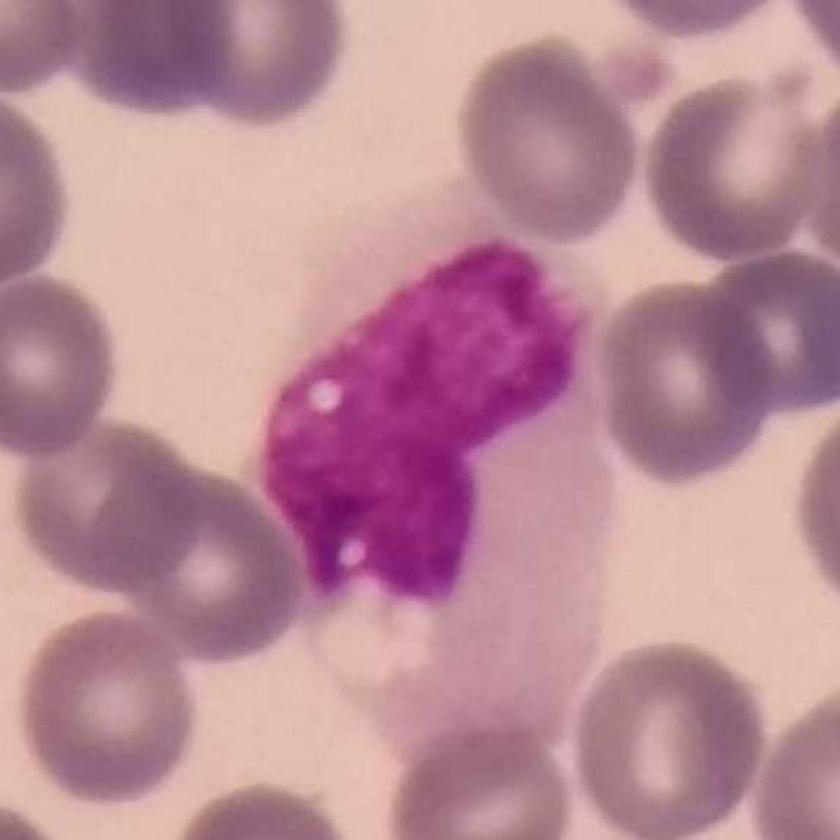monocyte: (250, 174, 630, 778)
